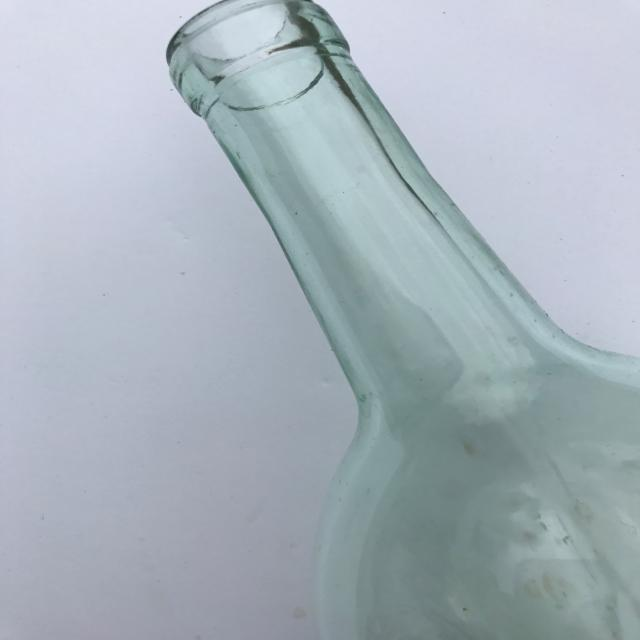glass: (163, 0, 639, 640)
